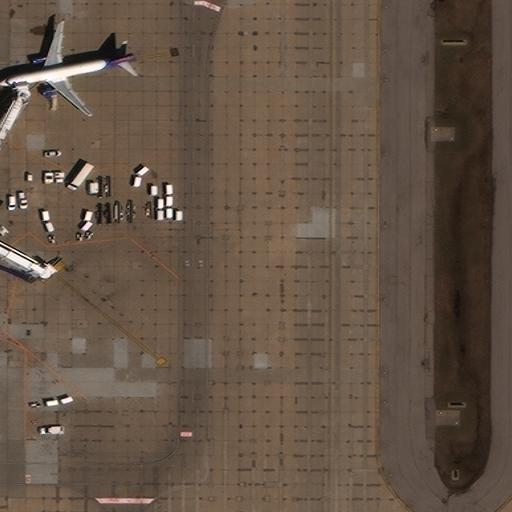Medium Civil Transport: (0, 22, 134, 116)
